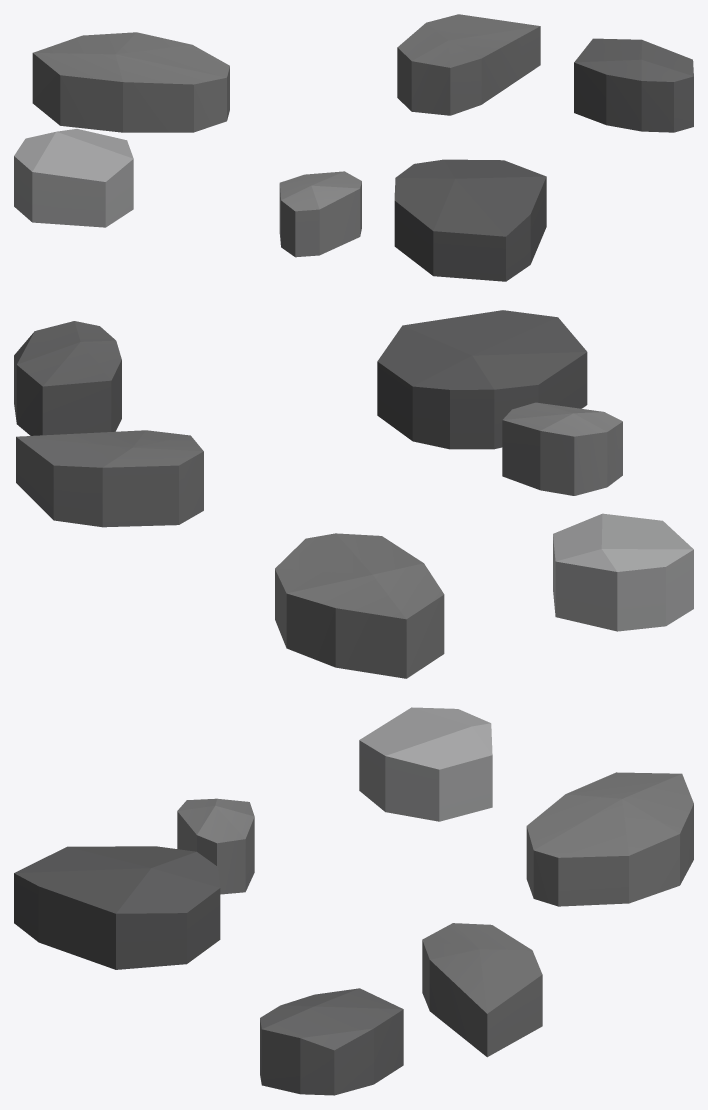
File: Stone_E.fbx
3 renders of one model, top to bottom at view 1: azimuth 30°, elevation 25°; view 2: azimuth 150°, elevation 25°; view 3: azimuth 270°, elevation 25°, orthographic. The views are drawn at different scales.
Visible parts, largest first — view 1: Stone_E; view 2: Stone_E; view 3: Stone_E.
Boxes of the visible parts, x1,y1,x2,y2 form: Stone_E: (14,14,693,281); Stone_E: (14,310,693,678); Stone_E: (14,707,693,1095).
Size of the model in its own units: 228 by 20.76 by 197.
